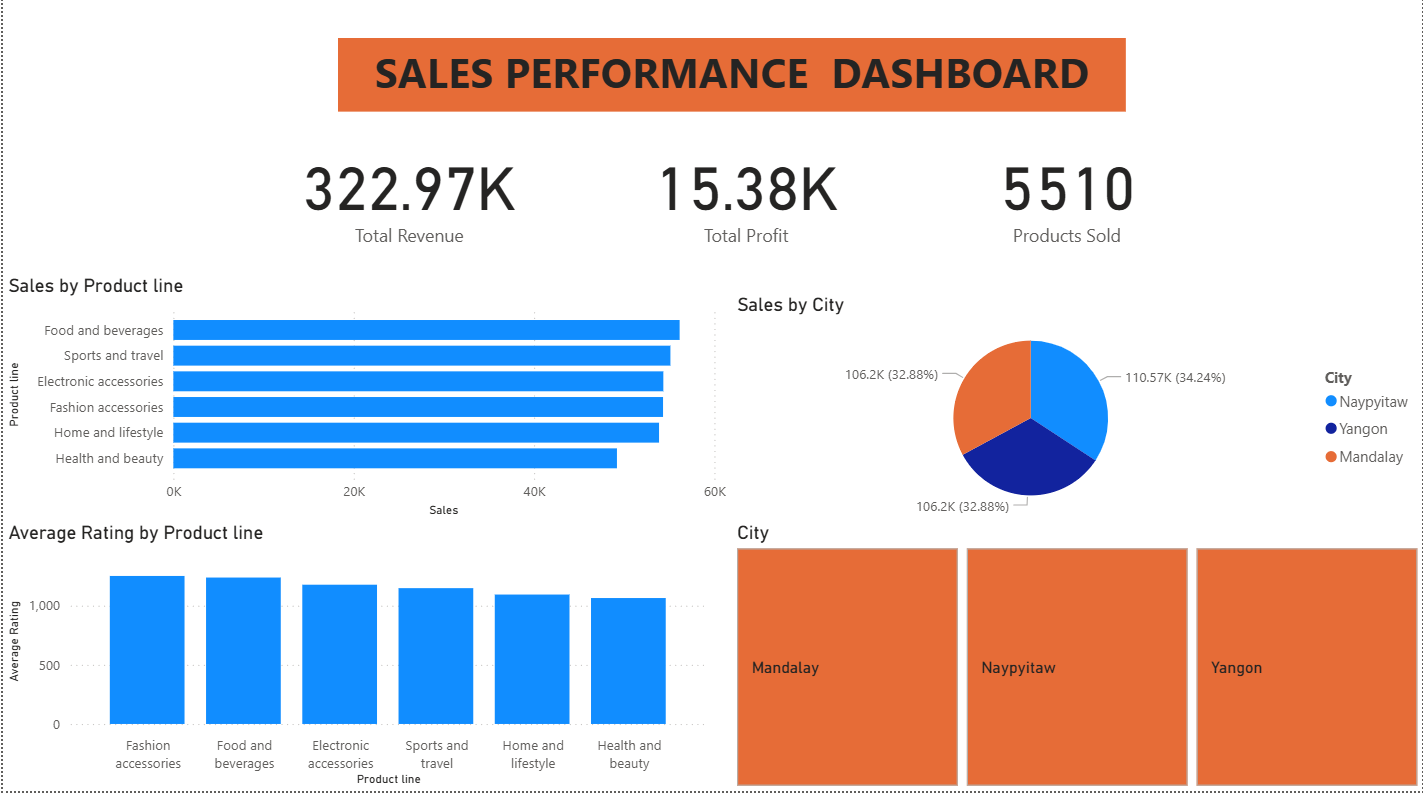

Layout of this report page (visuals, bound fields, positions):
{"tool":"powerbi","page":{"name":"Page 1","canvas":[1280,720],"ordinal":0},"visuals":[{"type":"card","fields":{"Values":["Sum(supermarket_sales - Sheet1.Total)"]},"box":[220,0,280.1,280.1],"z":0},{"type":"card","fields":{"Values":["Sum(supermarket_sales - Sheet1.Quantity)"]},"box":[849,0,280.1,280.1],"z":1000},{"type":"card","fields":{"Values":["Sum(supermarket_sales - Sheet1.gross income)"]},"box":[517.3,0,278.4,280.1],"z":2000},{"type":"clusteredBarChart","fields":{"Category":["supermarket_sales - Sheet1.Product line"],"Y":["Sum(supermarket_sales - Sheet1.Total)"]},"box":[0,201.1,656.5,223.4],"z":3000},{"type":"pieChart","fields":{"Category":["supermarket_sales - Sheet1.City"],"Y":["Sum(supermarket_sales - Sheet1.Total)"]},"box":[656.5,218.3,623.8,206.2],"z":4000},{"type":"clusteredColumnChart","fields":{"Category":["supermarket_sales - Sheet1.Product line"],"Y":["Sum(supermarket_sales - Sheet1.Rating)"]},"box":[0,440,639.3,280.1],"z":5000},{"type":"advancedSlicerVisual","fields":{"Values":["supermarket_sales - Sheet1.City"]},"box":[656.5,438.2,623.8,281.8],"z":5001}]}

Visuals, with their boxes in screenshot pixels (x1, y1, x2, y2), scaled from the page's 1280x720 canvas onto the 1423x797 screenshot:
card - Sum(supermarket_sales - Sheet1.Total): (245, 0, 556, 310)
card - Sum(supermarket_sales - Sheet1.Quantity): (944, 0, 1255, 310)
card - Sum(supermarket_sales - Sheet1.gross income): (575, 0, 885, 310)
clusteredBarChart - supermarket_sales - Sheet1.Product line x Sum(supermarket_sales - Sheet1.Total): (0, 223, 730, 470)
pieChart - supermarket_sales - Sheet1.City x Sum(supermarket_sales - Sheet1.Total): (730, 242, 1422, 470)
clusteredColumnChart - supermarket_sales - Sheet1.Product line x Sum(supermarket_sales - Sheet1.Rating): (0, 487, 711, 796)
advancedSlicerVisual - supermarket_sales - Sheet1.City: (730, 485, 1422, 796)
